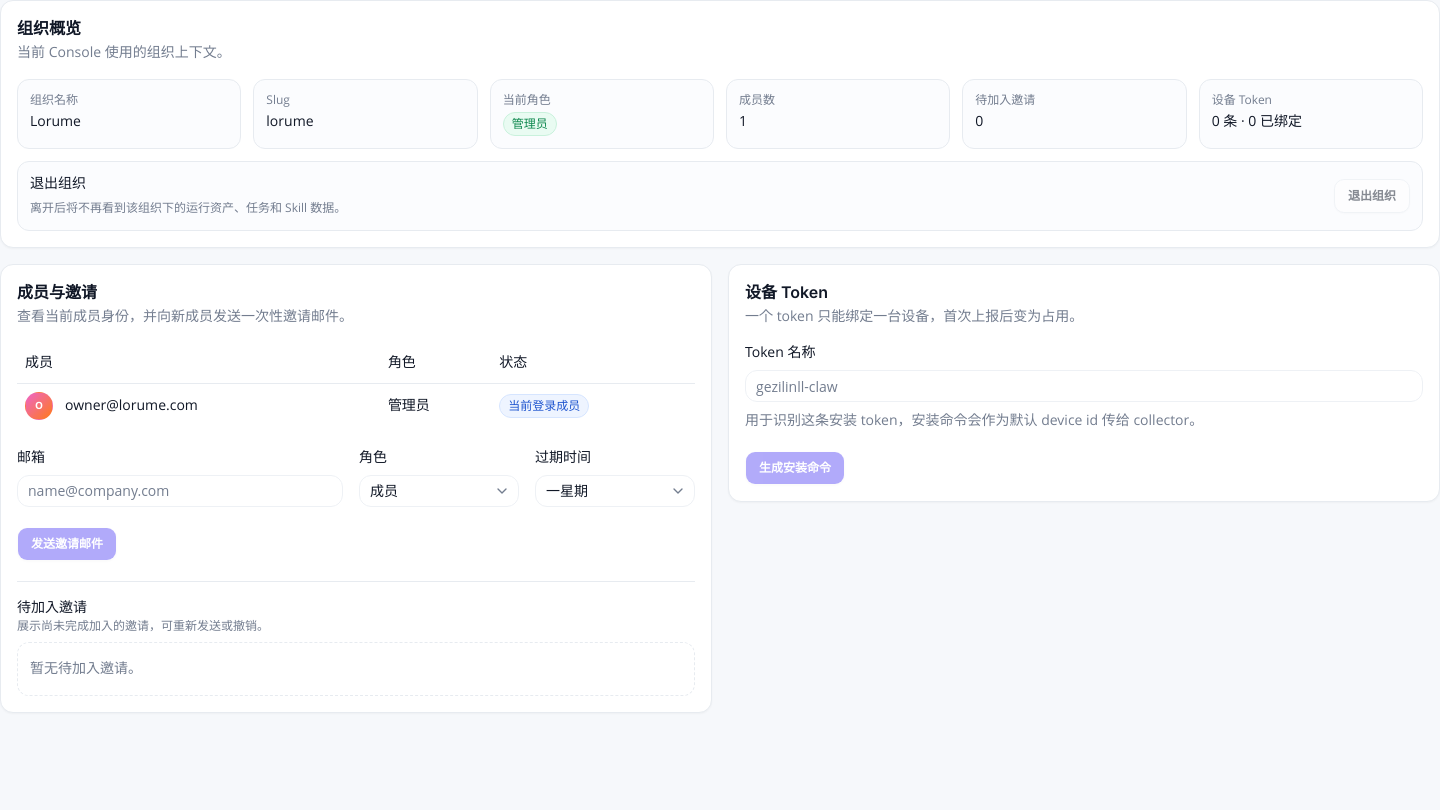
Test: OrganizationSettingsPage › sends an invitation email for organization admins
Expected: the table named "组织成员" is shown, [17, 343, 695, 428]
Expected: the text "成员数" is shown, [739, 91, 775, 108]
Type "teammate@lorume.com" into the field labelled "邮箱" at point(180, 491), box [17, 475, 343, 507]
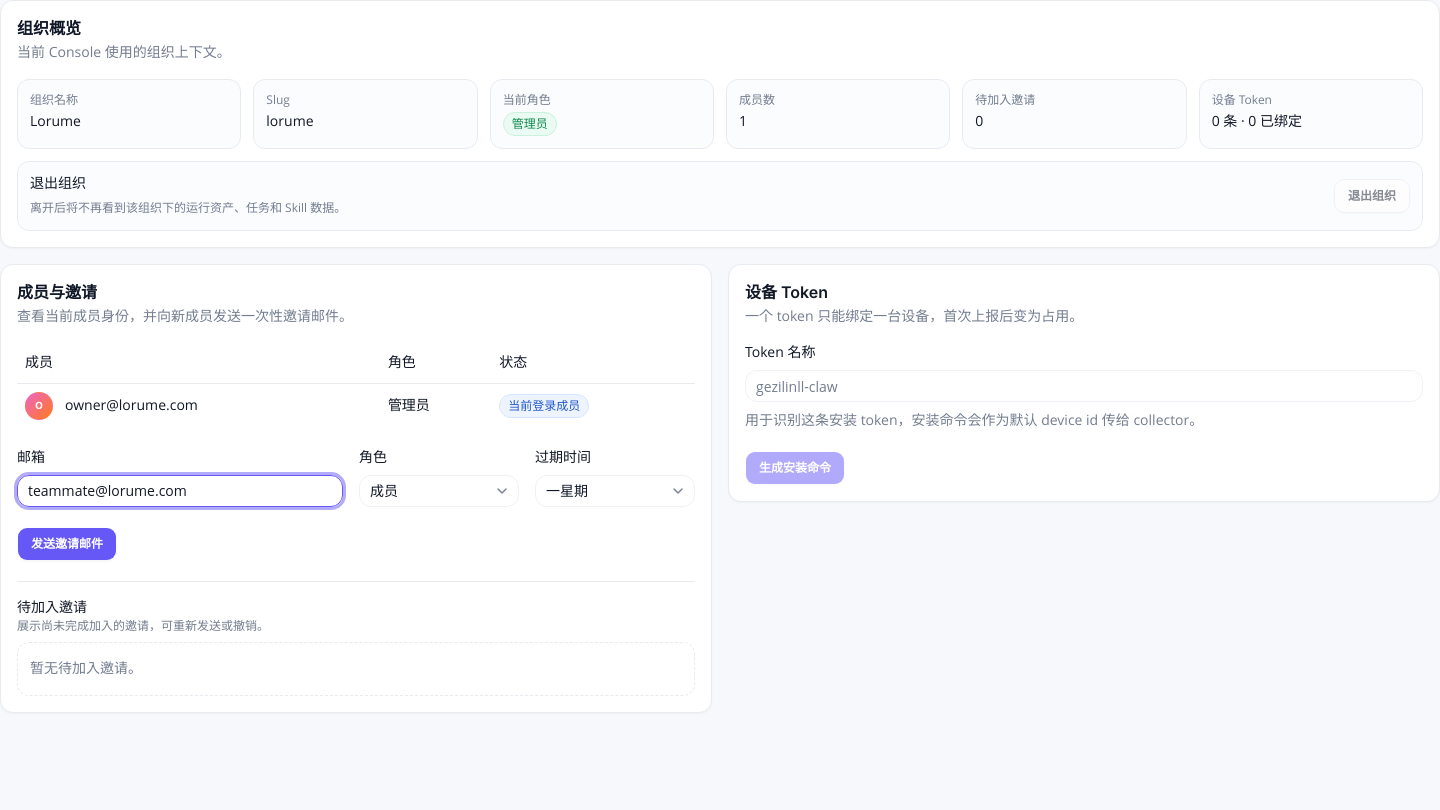
Click the button "发送邀请邮件" at point(67, 544), box [17, 527, 117, 561]
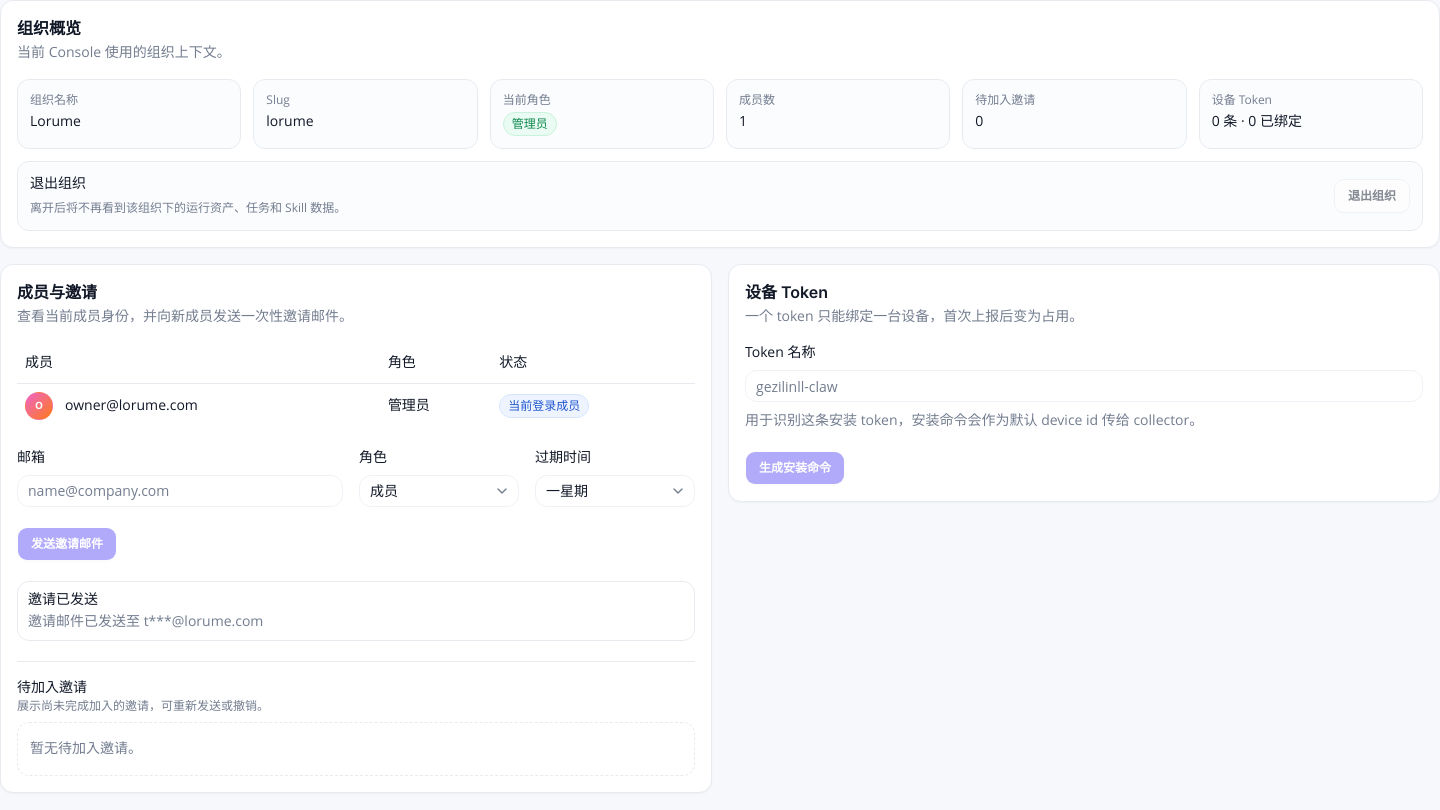
Now the text "邀请已发送" is shown, box [28, 590, 98, 609]
Now the text "邀请邮件已发送至 t***@lorume.com" is shown, box [28, 612, 263, 631]
